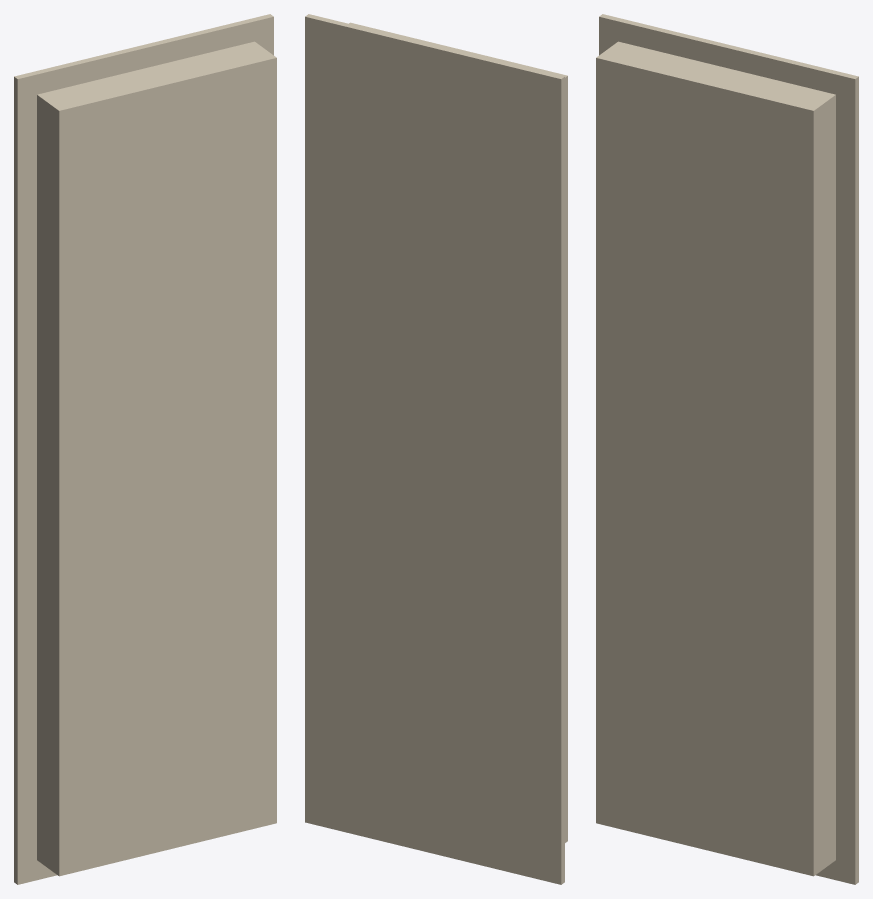
3 views of the same model, side by side, from view 1: azimuth 30°, elevation 25°; view 2: azimuth 150°, elevation 25°; view 3: azimuth 330°, elevation 25° (orthographic).
Parts seen in each view (by area): view 1: <组件#38>_1; view 2: <组件#38>_1; view 3: <组件#38>_1.
Part boxes in pixels (x1,y1,x2,y2): <组件#38>_1: (14, 14, 276, 884); <组件#38>_1: (305, 14, 567, 884); <组件#38>_1: (596, 14, 858, 884).
Bounding box in the file's own units: 7.86 × 23.62 × 1.38.
